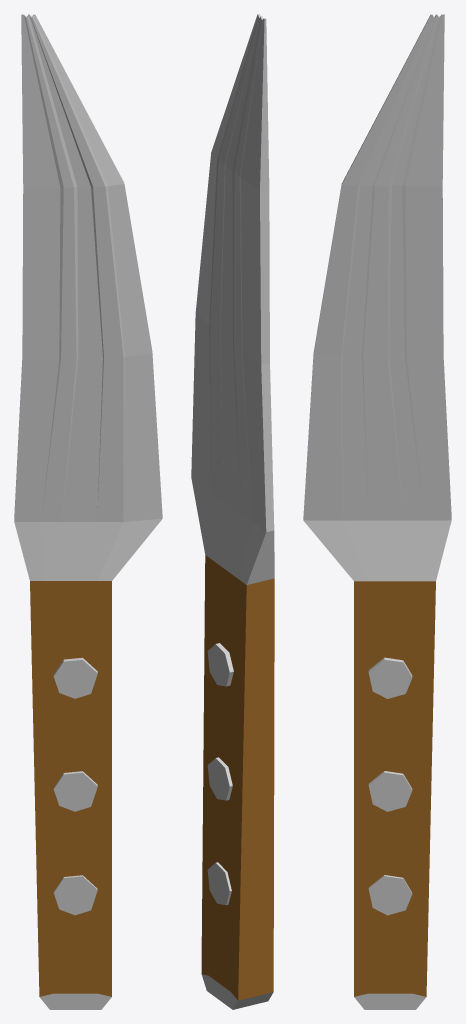
File: couteau.glb
The picture shows the model from 3 angles, left to right: view 1: azimuth 90°, elevation 25°; view 2: azimuth 210°, elevation 25°; view 3: azimuth 270°, elevation 25°; orthographic projection.
Visible parts, largest first — view 1: Cylinder.002; view 2: Cylinder.002; view 3: Cylinder.002.
Part boxes in pixels (x1=…): Cylinder.002: x1=14, y1=14, x2=162, y2=1009; Cylinder.002: x1=191, y1=14, x2=274, y2=1009; Cylinder.002: x1=303, y1=14, x2=451, y2=1009.
Bounding box in the file's own units: 0.5 × 12.53 × 1.71.
